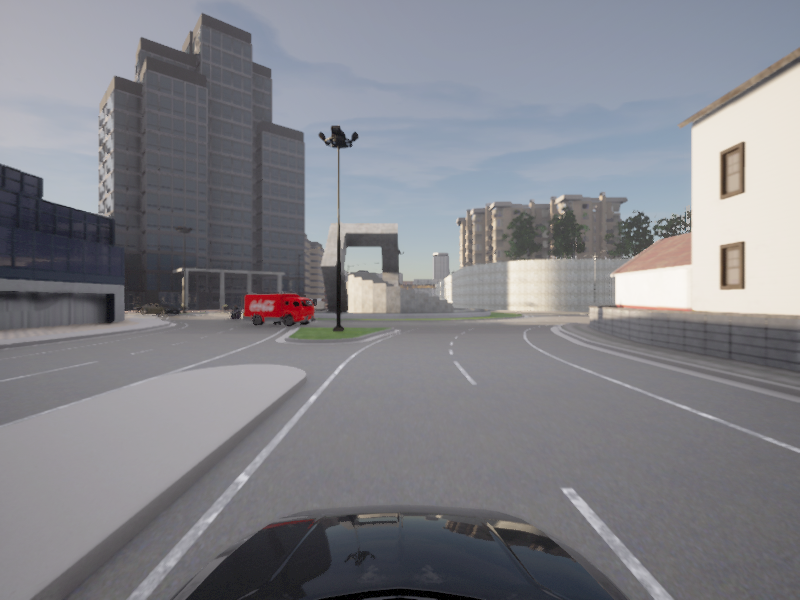vehicle: (241, 293, 319, 328), (226, 304, 243, 321)
